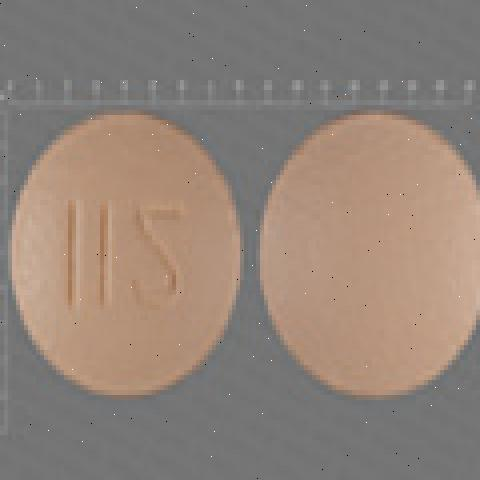Pill: (245, 88, 480, 411), (8, 110, 251, 408)
